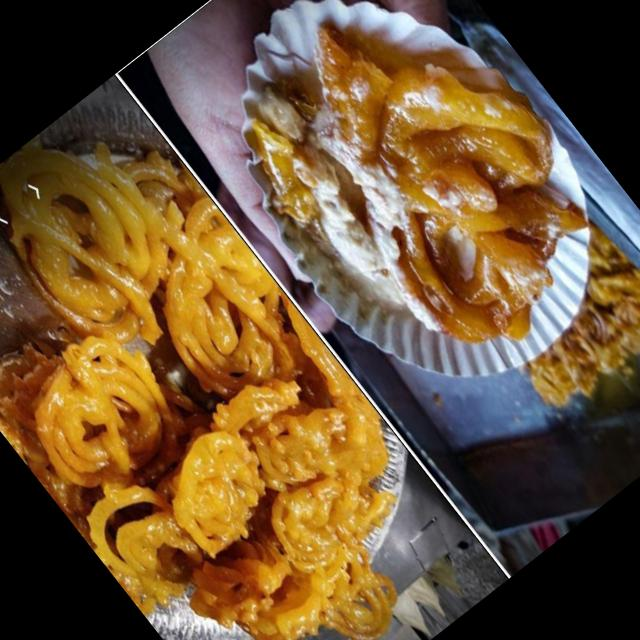jalebi: (0, 89, 469, 640), (274, 0, 640, 421)
